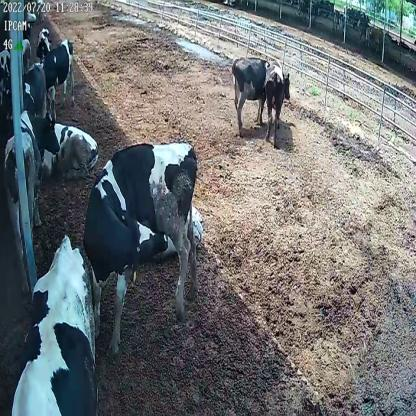cow: (82, 141, 200, 340), (3, 109, 61, 295), (230, 54, 271, 130), (262, 54, 292, 141), (35, 26, 51, 63)
